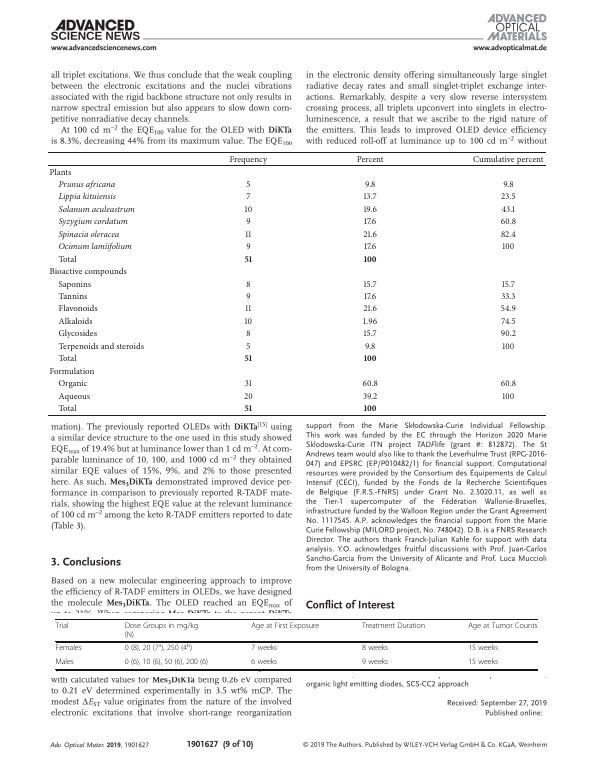borderless: (46, 150, 546, 415), (54, 618, 537, 669)
cell: (124, 622, 199, 640), (57, 341, 145, 352), (48, 266, 128, 277), (57, 204, 136, 215), (124, 658, 209, 668), (57, 241, 133, 252), (124, 642, 193, 654), (472, 154, 545, 165), (57, 217, 129, 227), (57, 229, 120, 240), (57, 179, 116, 190), (467, 622, 538, 631), (250, 622, 320, 631), (57, 192, 117, 202), (361, 622, 426, 631), (48, 366, 95, 377), (229, 154, 268, 165), (57, 304, 99, 314), (57, 329, 98, 339), (57, 316, 94, 327), (57, 391, 91, 402), (57, 378, 89, 389), (57, 279, 92, 289), (57, 291, 88, 302), (467, 644, 499, 654), (467, 658, 499, 668), (356, 154, 385, 165), (250, 644, 278, 654), (361, 644, 389, 654), (250, 658, 278, 668), (361, 658, 389, 668), (55, 644, 82, 654), (48, 167, 72, 177), (57, 254, 78, 265), (57, 403, 78, 414), (57, 354, 78, 364), (54, 658, 75, 668), (500, 229, 517, 240), (500, 316, 517, 327), (362, 378, 379, 389), (500, 378, 517, 389), (362, 204, 378, 215), (362, 229, 378, 240), (500, 291, 516, 302), (362, 316, 378, 327), (362, 391, 378, 402), (500, 192, 517, 202), (500, 217, 517, 227), (500, 304, 517, 314), (500, 329, 517, 339), (501, 204, 516, 215), (362, 304, 378, 314), (363, 241, 377, 252), (501, 241, 515, 252), (363, 291, 377, 302), (501, 341, 515, 352), (501, 391, 515, 402), (363, 192, 378, 202), (363, 279, 378, 289), (501, 279, 516, 289), (363, 329, 378, 339), (502, 179, 515, 190), (363, 217, 377, 227), (363, 403, 378, 412), (364, 179, 376, 190), (364, 341, 376, 352), (55, 622, 69, 631), (243, 391, 254, 402), (363, 254, 378, 262), (363, 354, 378, 362), (244, 204, 253, 215), (244, 316, 253, 327), (244, 378, 253, 389), (244, 229, 252, 240), (244, 403, 253, 412), (244, 304, 252, 314), (245, 241, 252, 252), (245, 291, 252, 302), (244, 254, 253, 262), (244, 354, 253, 362), (245, 217, 252, 227), (245, 279, 252, 289), (245, 329, 252, 339), (245, 179, 251, 190), (245, 341, 251, 352), (245, 192, 251, 202)
